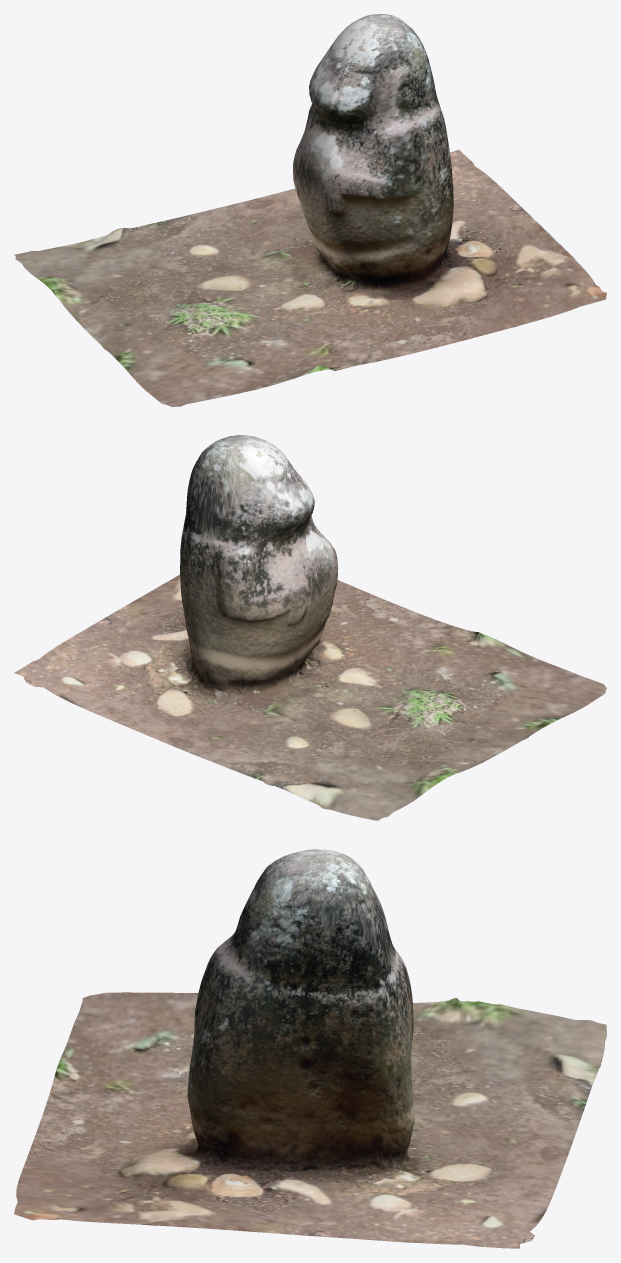
3 renders of one model, top to bottom at view 1: azimuth 30°, elevation 25°; view 2: azimuth 150°, elevation 25°; view 3: azimuth 270°, elevation 25°, orthographic. The views are drawn at different scales.
Visible parts, largest first — view 1: Object; view 2: Object; view 3: Object.
Part boxes in pixels (x1,y1,x2,y2): Object: [14, 14, 606, 406]; Object: [14, 435, 606, 820]; Object: [14, 849, 606, 1248].
Size of the model in its own units: 1.69 by 0.9057 by 1.46.
1 material, 1 textured.
